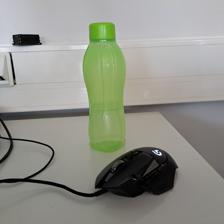bottle: (80, 21, 127, 152)
mouse: (93, 146, 179, 198)
